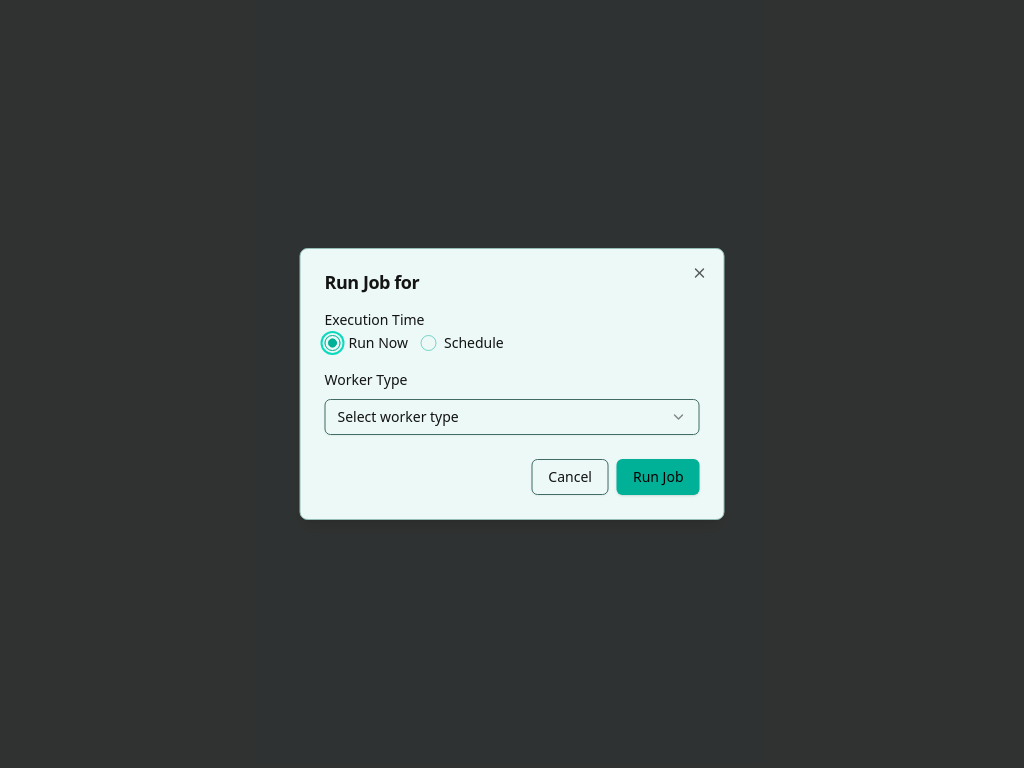
Test: RunJobModal › validates workerType is required
Click the button "Run Job": {"x": 658, "y": 477} [617, 459, 700, 495]
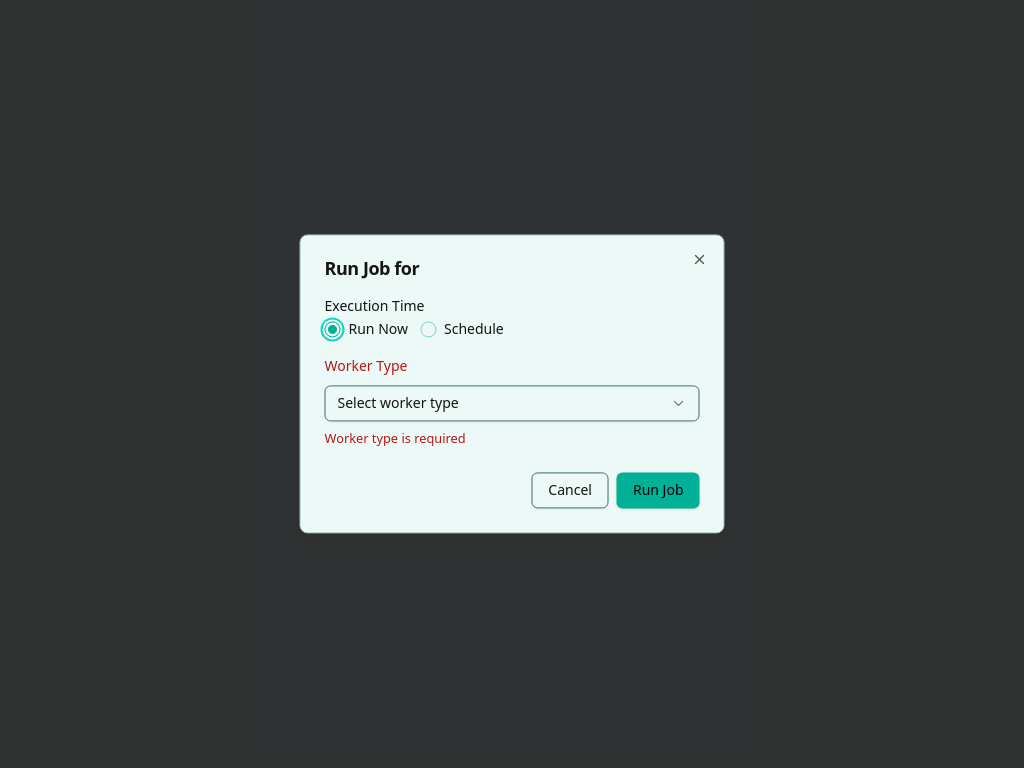
Expected: the text "Worker type is required" is shown, [324, 429, 466, 447]
